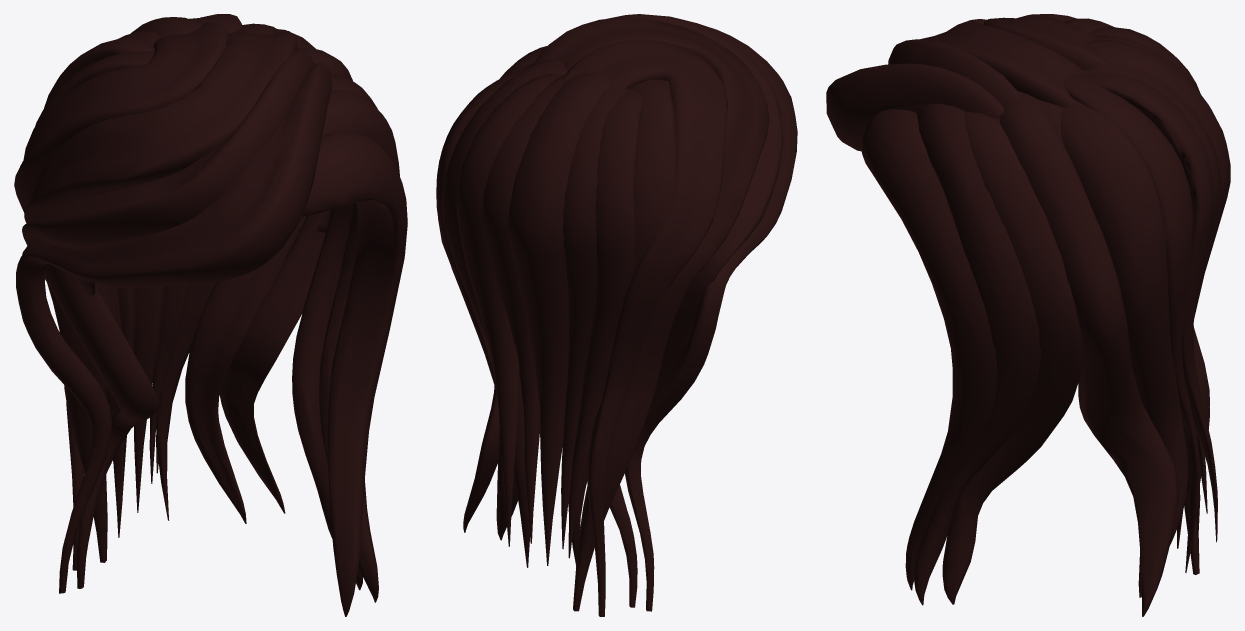
File: hair-4-4dc5ba06.glb
3 views of the same model, side by side, from view 1: azimuth 30°, elevation 25°; view 2: azimuth 150°, elevation 25°; view 3: azimuth 270°, elevation 25° (orthographic). The views are drawn at different scales.
Parts seen in each view (by area): view 1: hair_4.001; view 2: hair_4.001; view 3: hair_4.001.
Part boxes in pixels (left/top/right/bottom): hair_4.001: left=14, top=14, right=407, bottom=616; hair_4.001: left=436, top=14, right=797, bottom=616; hair_4.001: left=826, top=14, right=1230, bottom=616.
Bounding box in the file's own units: 2.04 × 3.33 × 2.19.
